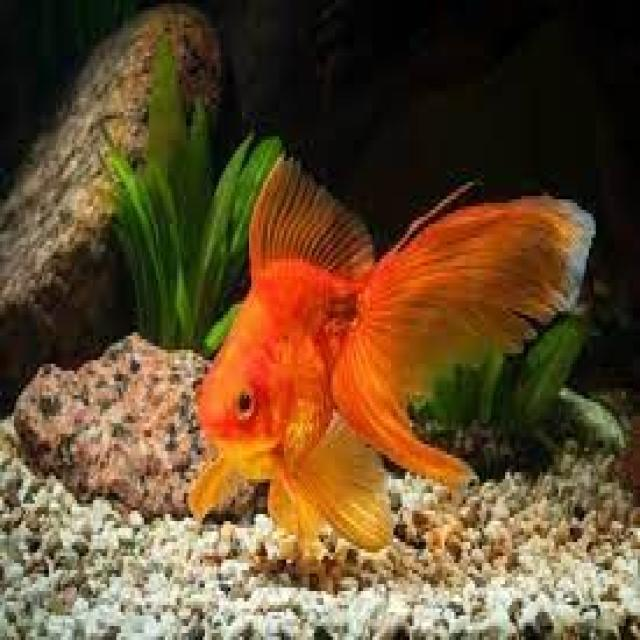Gold-Fish: (146, 140, 640, 577)
